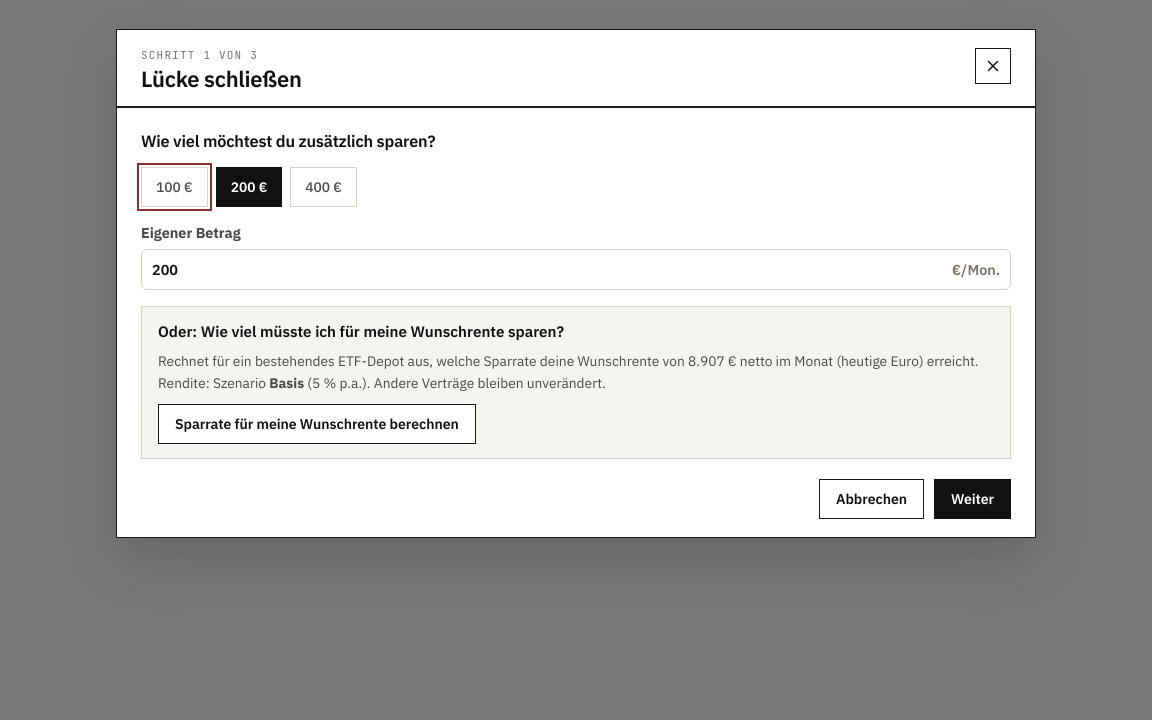
LueckeSchliessenModal › repeats the card's whole-plan and additional income on the saved step
Click the button "Weiter": coordinates (972, 499) left=934, top=479, right=1011, bottom=519
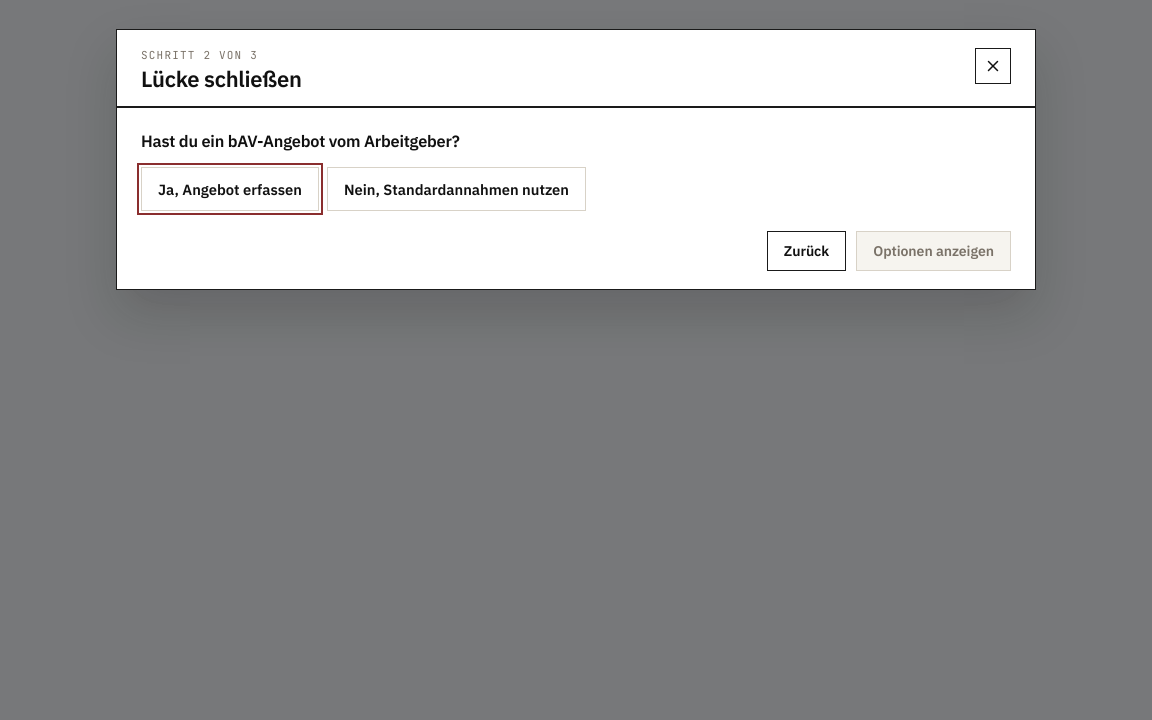
Click the button "Nein, Standardannahmen nutzen": coordinates (456, 189) left=327, top=167, right=586, bottom=211
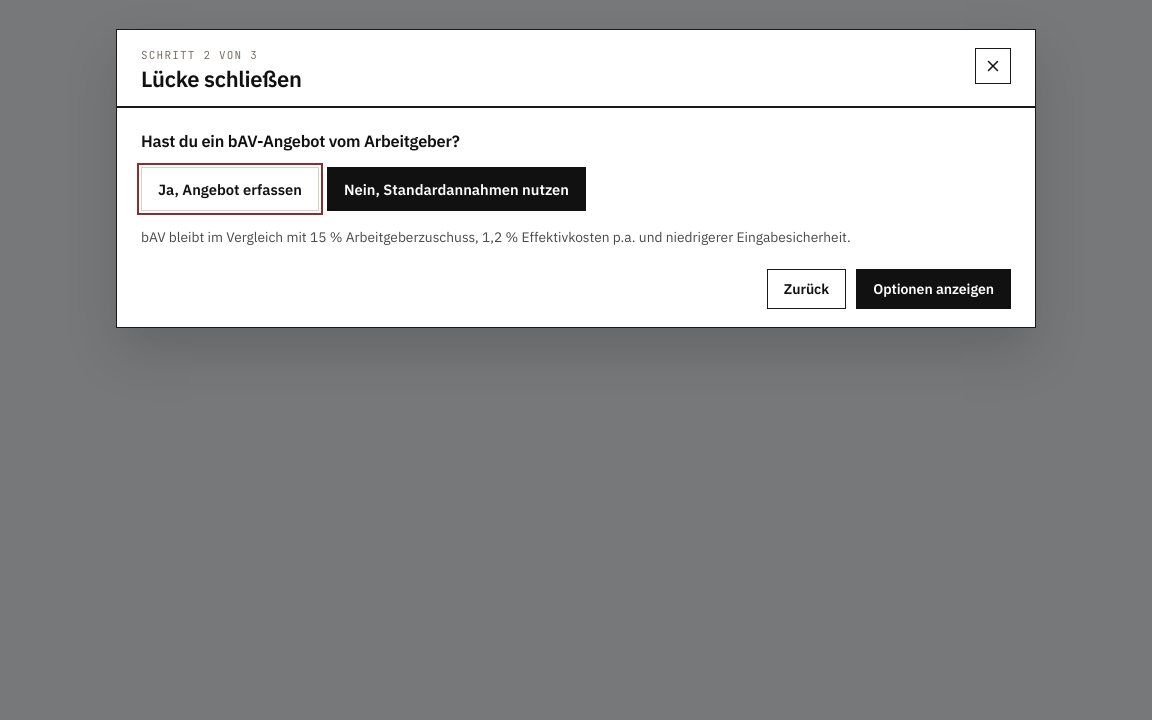
Click the button "Optionen anzeigen": coordinates (934, 288) left=856, top=268, right=1011, bottom=308
(page scrolled)
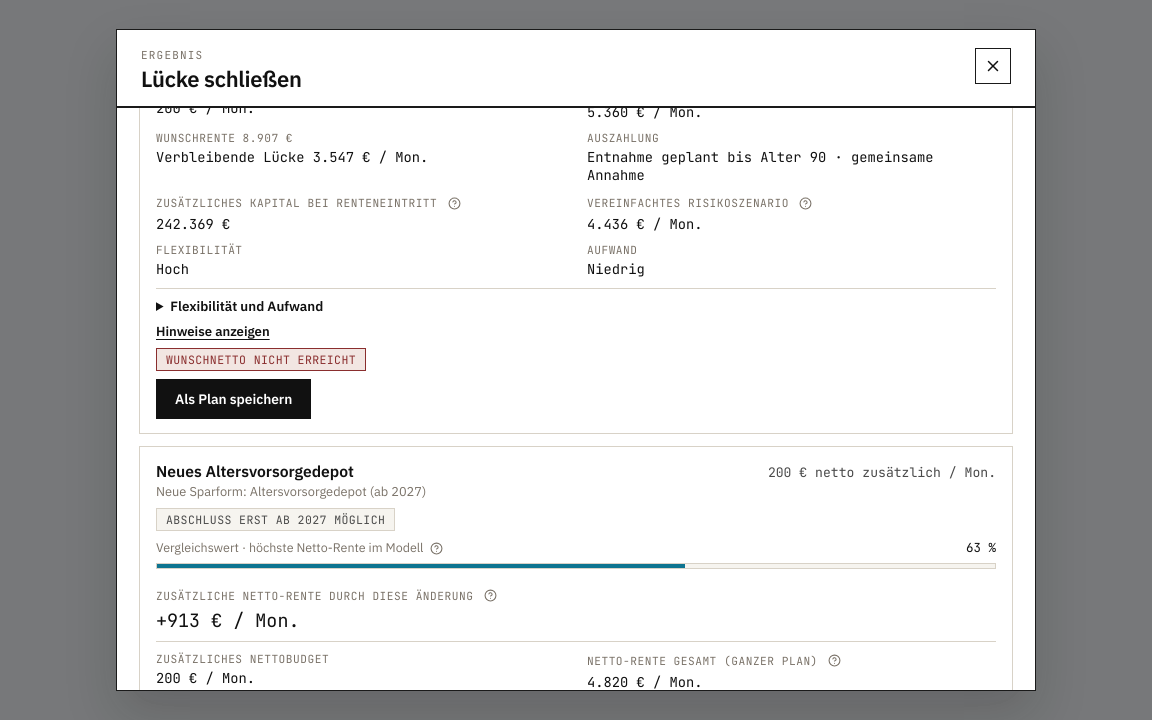
Click the button with class "recommender-candidate-save": coordinates (234, 399) left=156, top=379, right=311, bottom=419
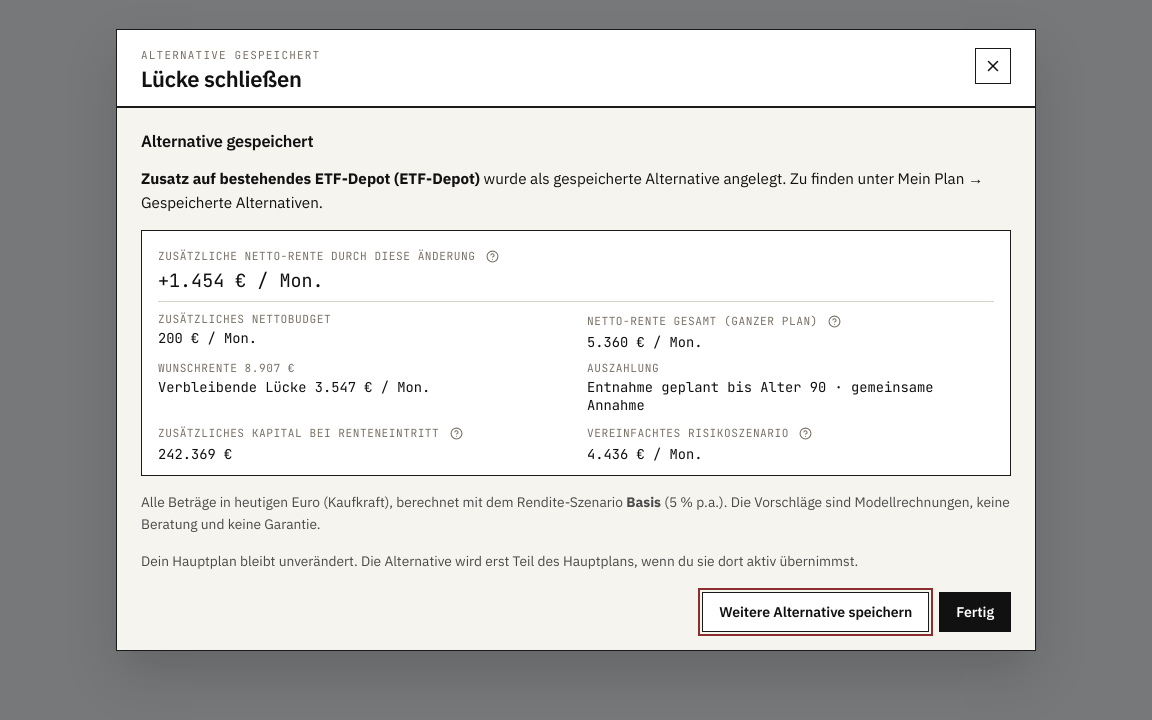
Now the message with class "luecke-modal__body--saved" shows "heutigen Euro", box left=141, top=493, right=623, bottom=511
